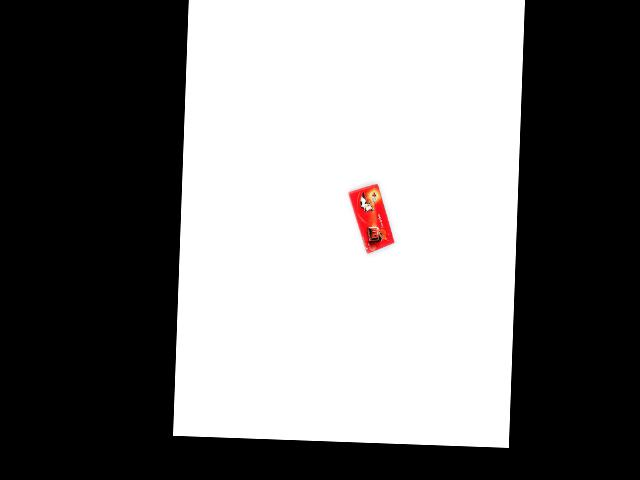chocolate: (346, 184, 397, 255)
